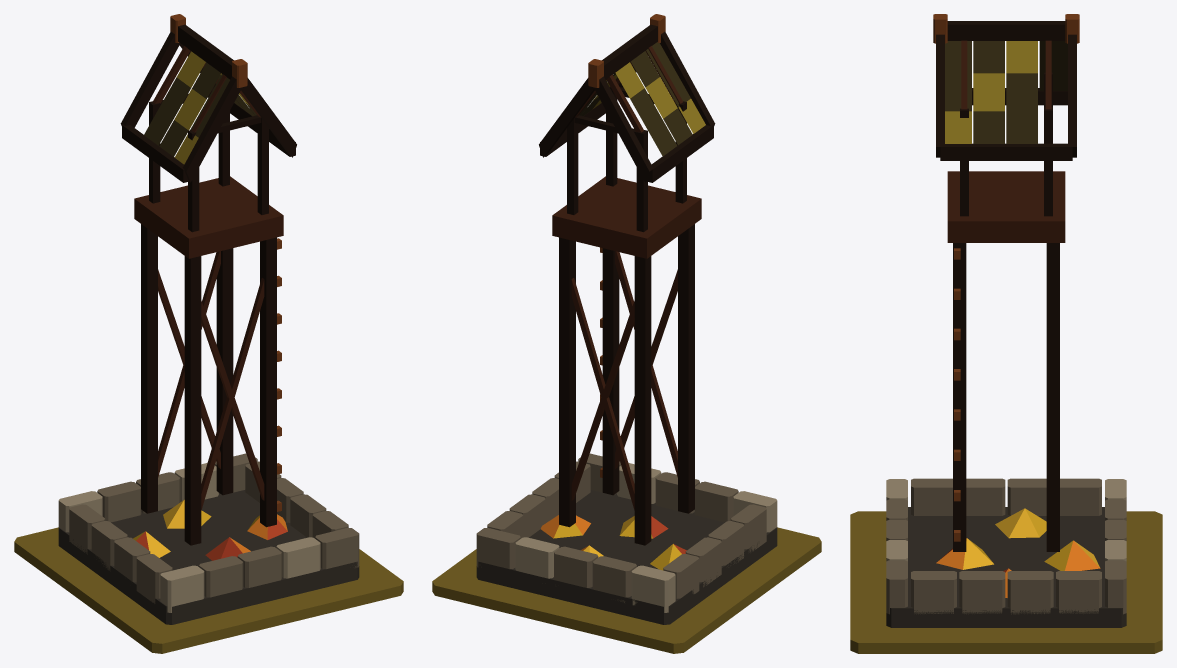
The model's file is tower_t2.glb.
The picture shows the model from 3 angles, left to right: view 1: azimuth 30°, elevation 25°; view 2: azimuth 150°, elevation 25°; view 3: azimuth 270°, elevation 25°; orthographic projection. The views are drawn at different scales.
Parts seen in each view (by area): view 1: MMR | tower | T02 Architecture.001, MMR | tower | Tier 02 Ground.001, MMR | tower | T02 Roof Supports.001, MMR | tower | T02 Autumn Dressing.001; view 2: MMR | tower | T02 Architecture.001, MMR | tower | Tier 02 Ground.001, MMR | tower | T02 Roof Supports.001, MMR | tower | T02 Autumn Dressing.001; view 3: MMR | tower | T02 Architecture.001, MMR | tower | Tier 02 Ground.001, MMR | tower | T02 Autumn Dressing.001, MMR | tower | T02 Roof Supports.001.
Boxes of the visible parts, box(x1,y1,x2,y2) form: MMR | tower | T02 Architecture.001: box(58, 14, 359, 624); MMR | tower | Tier 02 Ground.001: box(14, 527, 403, 653); MMR | tower | T02 Roof Supports.001: box(149, 46, 268, 232); MMR | tower | T02 Autumn Dressing.001: box(133, 499, 287, 560); MMR | tower | T02 Architecture.001: box(476, 14, 777, 624); MMR | tower | Tier 02 Ground.001: box(432, 527, 821, 653); MMR | tower | T02 Roof Supports.001: box(567, 46, 686, 232); MMR | tower | T02 Autumn Dressing.001: box(541, 515, 686, 570); MMR | tower | T02 Architecture.001: box(886, 14, 1126, 627); MMR | tower | Tier 02 Ground.001: box(850, 511, 1162, 653); MMR | tower | T02 Autumn Dressing.001: box(936, 508, 1100, 597); MMR | tower | T02 Roof Supports.001: box(960, 40, 1052, 216).
Bounding box in the file's own units: 1.3 × 2.63 × 1.3.
Materials: 1 (1 with a texture image).
